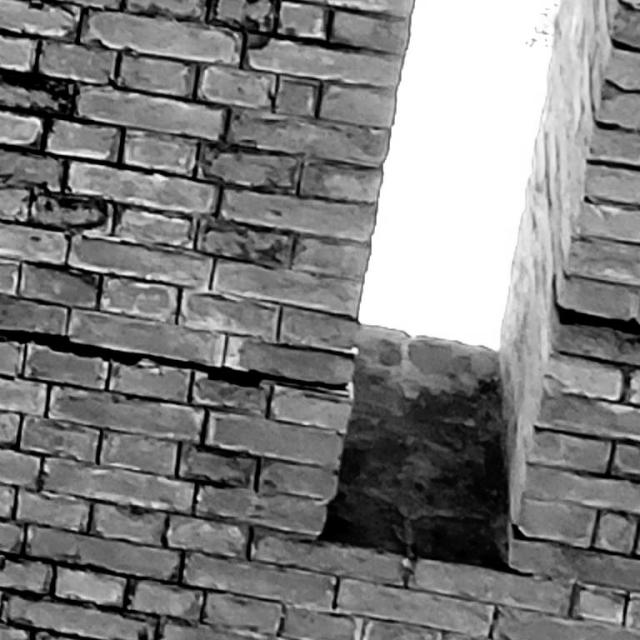crack: (1, 328, 347, 392), (551, 273, 640, 336)
